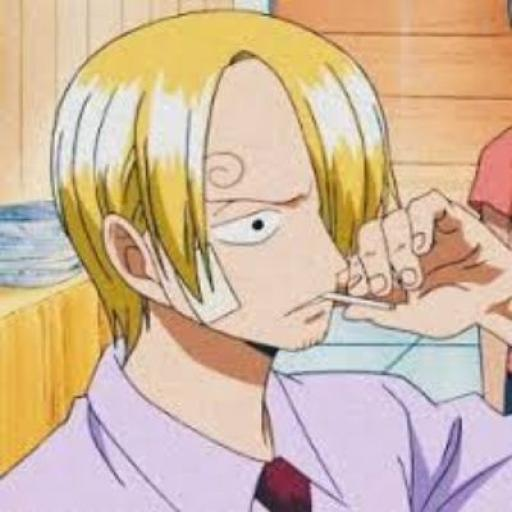sanji: (10, 0, 512, 512)
